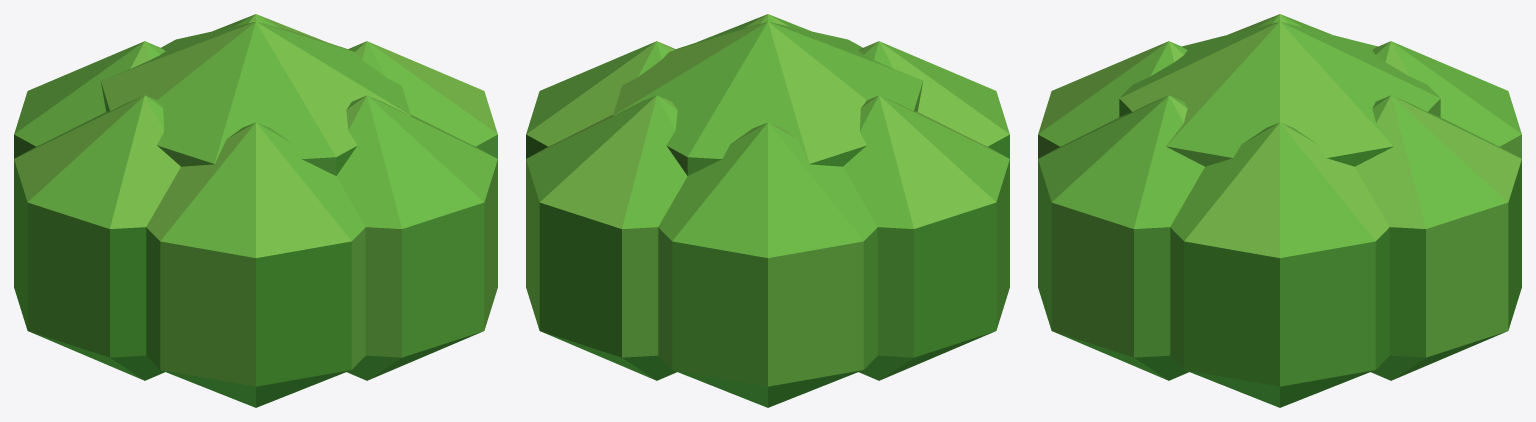
Rendered from bush_a.glb.
3 views of the same model, side by side, from view 1: azimuth 30°, elevation 25°; view 2: azimuth 150°, elevation 25°; view 3: azimuth 270°, elevation 25° (orthographic).
Visible parts, largest first — view 1: bush_a; view 2: bush_a; view 3: bush_a.
Part boxes in pixels (x1,y1,x2,y2): bush_a: (14, 14, 497, 407); bush_a: (526, 14, 1009, 407); bush_a: (1038, 14, 1521, 407).
Bounding box in the file's own units: 0.7198 × 0.5 × 0.6603.
